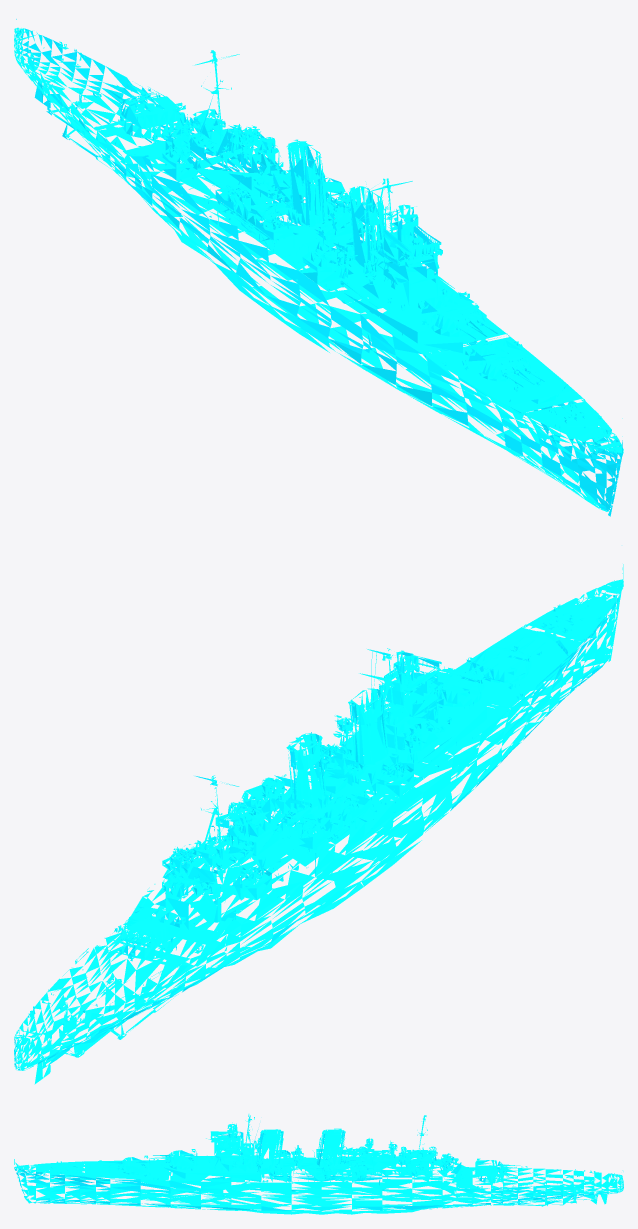
The model's file is Encounter.glb.
3 views of the same model, one above another, from view 1: azimuth 30°, elevation 25°; view 2: azimuth 150°, elevation 25°; view 3: azimuth 270°, elevation 25° (orthographic). The views are drawn at different scales.
Bounding box in the file's own units: 1.31 × 2.21 × 13.62.
